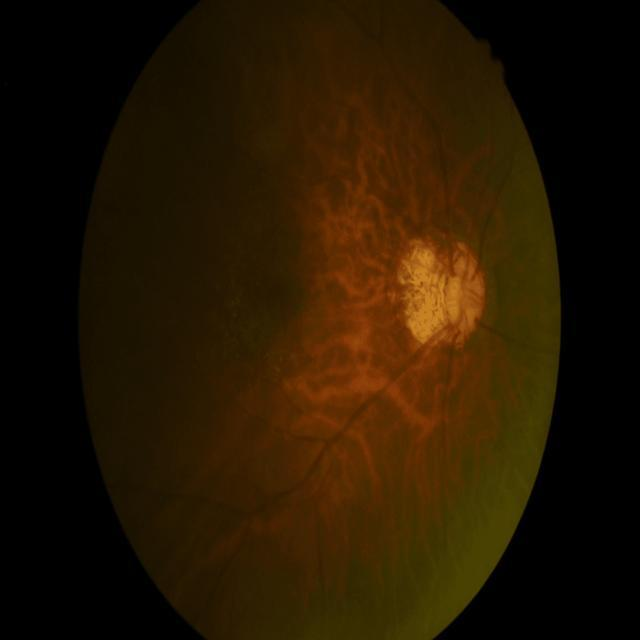cup: (448, 275, 474, 331)
disk: (440, 243, 484, 347)
